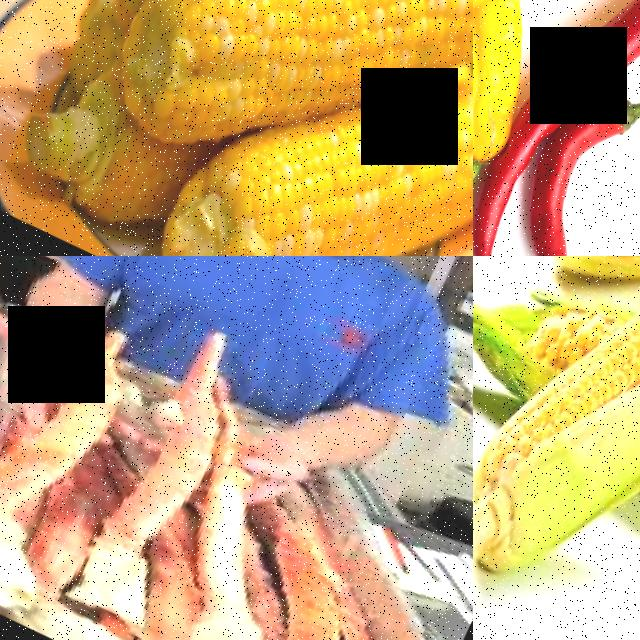chilli: (474, 76, 640, 256), (473, 94, 572, 256), (548, 0, 640, 136)
corn: (101, 0, 388, 194), (473, 256, 640, 555), (134, 86, 385, 256), (327, 34, 473, 256), (332, 0, 473, 124)
crab: (0, 398, 232, 640), (96, 474, 417, 640)
